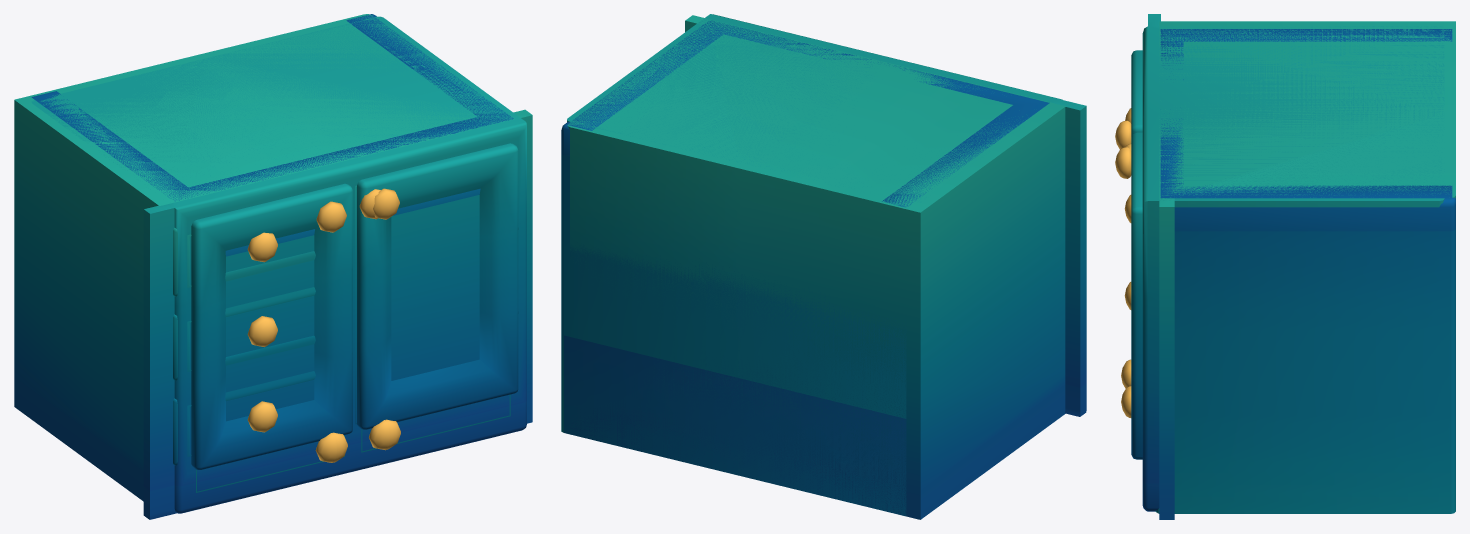
The model's file is BlueCabinets.fbx.
The picture shows the model from 3 angles, left to right: view 1: azimuth 30°, elevation 25°; view 2: azimuth 150°, elevation 25°; view 3: azimuth 270°, elevation 25°; orthographic projection.
Parts seen in each view (by area): view 1: Cabinet03, Cabinet02, UpCabinet; view 2: Cabinet02, UpCabinet, Cabinet03; view 3: UpCabinet, Cabinet02, Cabinet03.
Part boxes in pixels (x1,y1,x2,y2): Cabinet03: (31,16,526,519); Cabinet02: (14,14,532,501); UpCabinet: (31,14,513,492); Cabinet02: (567,15,1065,519); UpCabinet: (561,20,1049,516); Cabinet03: (567,14,1086,416); UpCabinet: (1121,29,1455,513); Cabinet02: (1124,21,1455,519); Cabinet03: (1115,14,1444,511).
Bounding box in the file's own units: 134 × 101 × 99.75.
